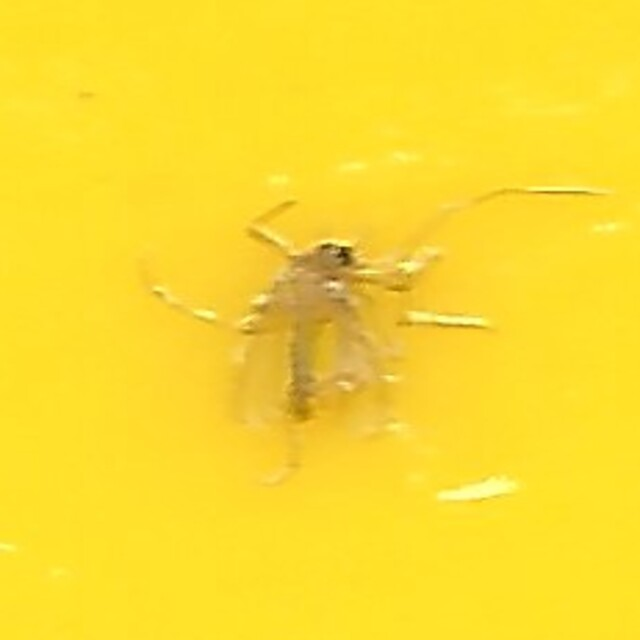Nematocera: (277, 222, 363, 418)
